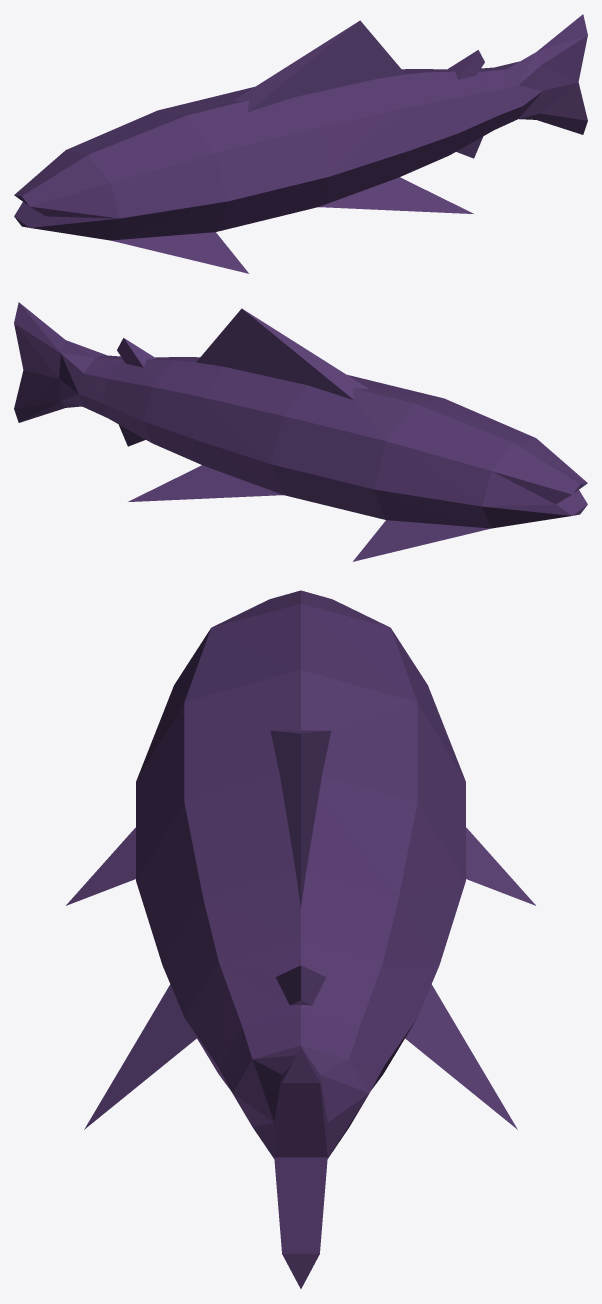
The model's file is fish-lilac.glb.
3 views of the same model, one above another, from view 1: azimuth 30°, elevation 25°; view 2: azimuth 150°, elevation 25°; view 3: azimuth 270°, elevation 25° (orthographic). The views are drawn at different scales.
Visible parts, largest first — view 1: fish-lilac; view 2: fish-lilac; view 3: fish-lilac.
Part boxes in pixels (left/top/right/bottom): fish-lilac: left=14, top=14, right=587, bottom=273; fish-lilac: left=14, top=302, right=587, bottom=561; fish-lilac: left=66, top=590, right=535, bottom=1288.
Bounding box in the file's own units: 0.66 × 0.19 × 0.24.
